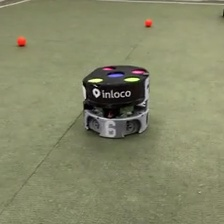ball: (17, 35, 26, 46), (145, 17, 152, 28)
robot: (81, 63, 152, 140)
